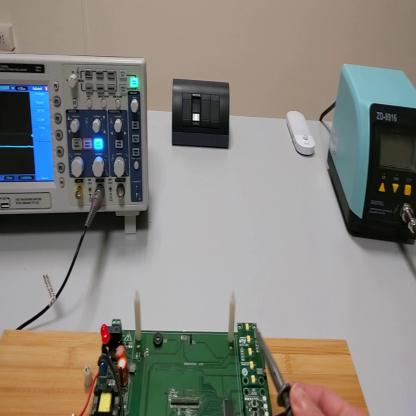hand: (288, 378, 359, 415)
low voltage board: (79, 291, 272, 416)
oscilloscope: (2, 54, 150, 237)
oscilloscope probe tip: (254, 332, 293, 415)
welder station: (329, 65, 415, 242)
working area: (1, 331, 369, 414)
